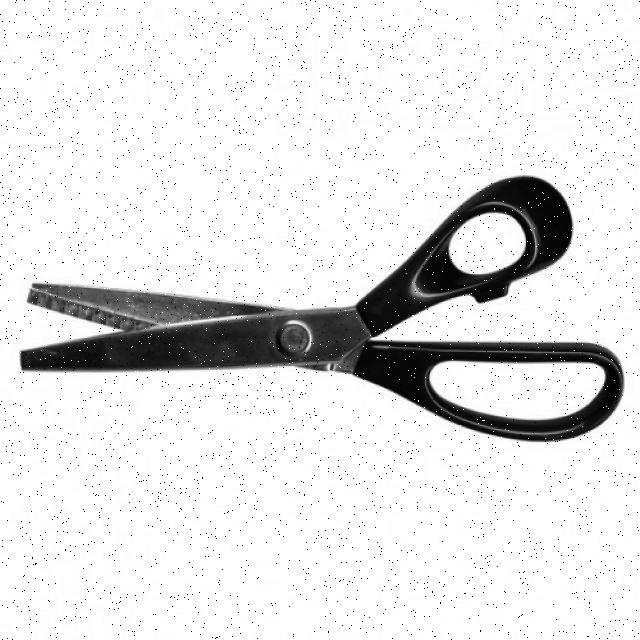scissors: (14, 170, 630, 444)
